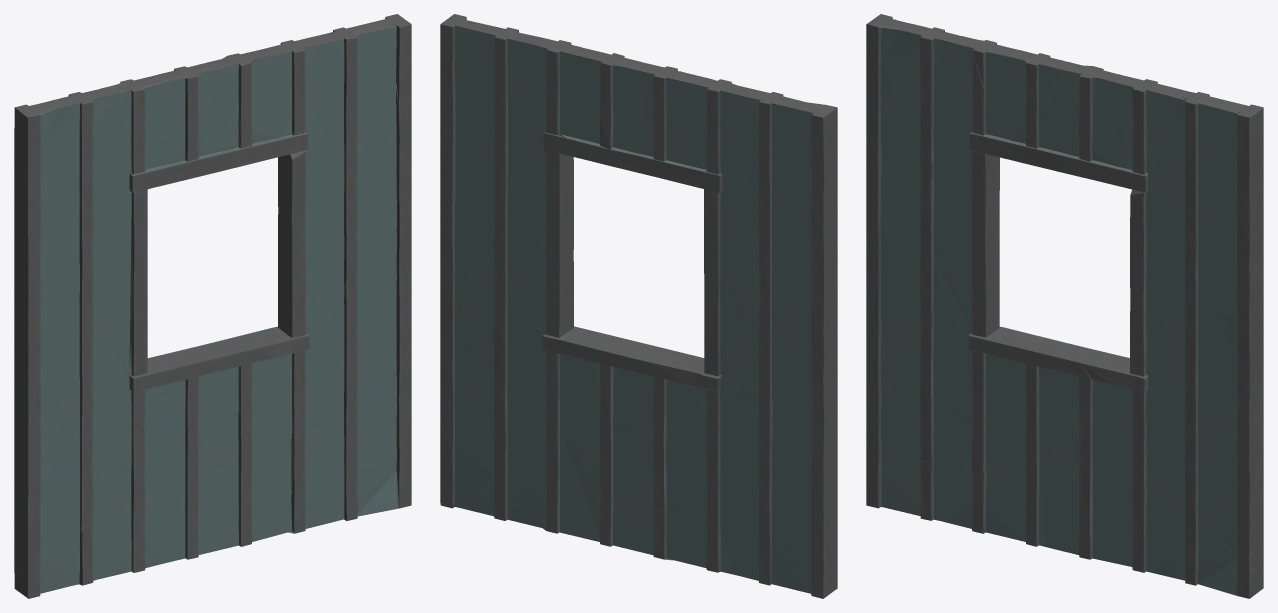
Rendered from windowFrame.glb.
3 renders of one model, left to right at view 1: azimuth 30°, elevation 25°; view 2: azimuth 150°, elevation 25°; view 3: azimuth 330°, elevation 25°, orthographic.
Visible parts, largest first — view 1: Mesh_0; view 2: Mesh_0; view 3: Mesh_0.
Part boxes in pixels (x1=…): Mesh_0: x1=14, y1=14, x2=411, y2=598; Mesh_0: x1=440, y1=14, x2=837, y2=598; Mesh_0: x1=866, y1=14, x2=1263, y2=598.
Size of the model in its own units: 2 by 2.4 by 0.16.
1 material, 1 textured.
